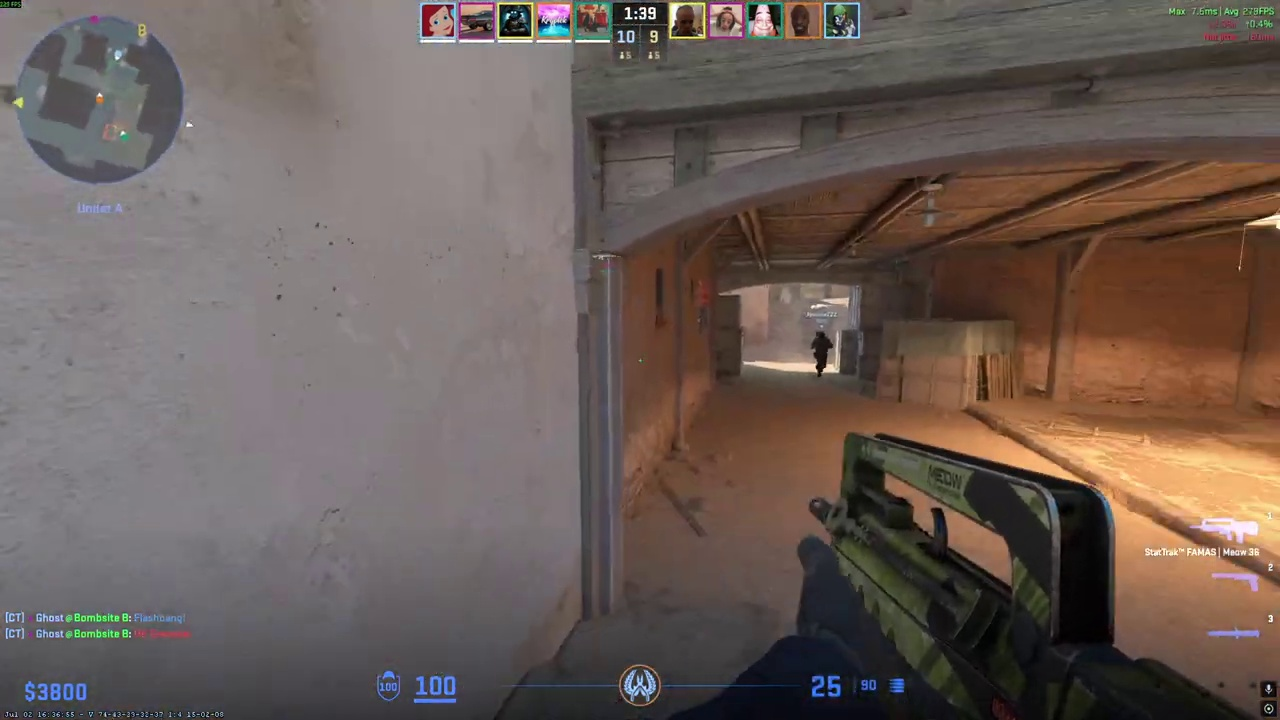CT: (812, 331, 831, 377)
